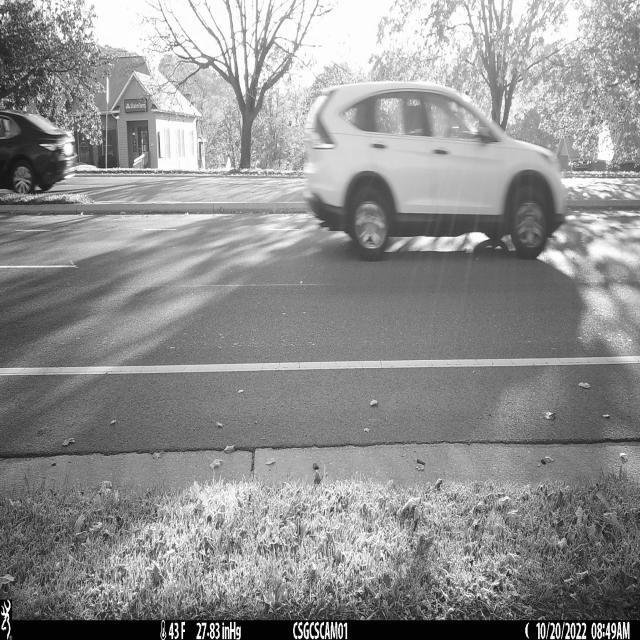SUV: (304, 81, 567, 260)
